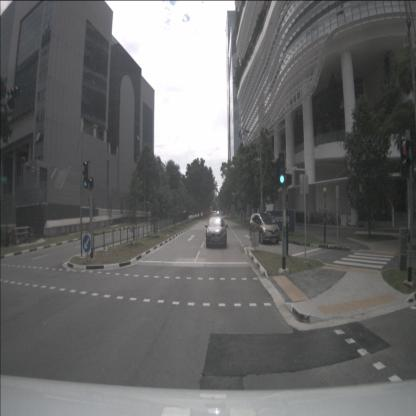vehicle-car: (249, 212, 280, 244), (206, 216, 227, 248)
